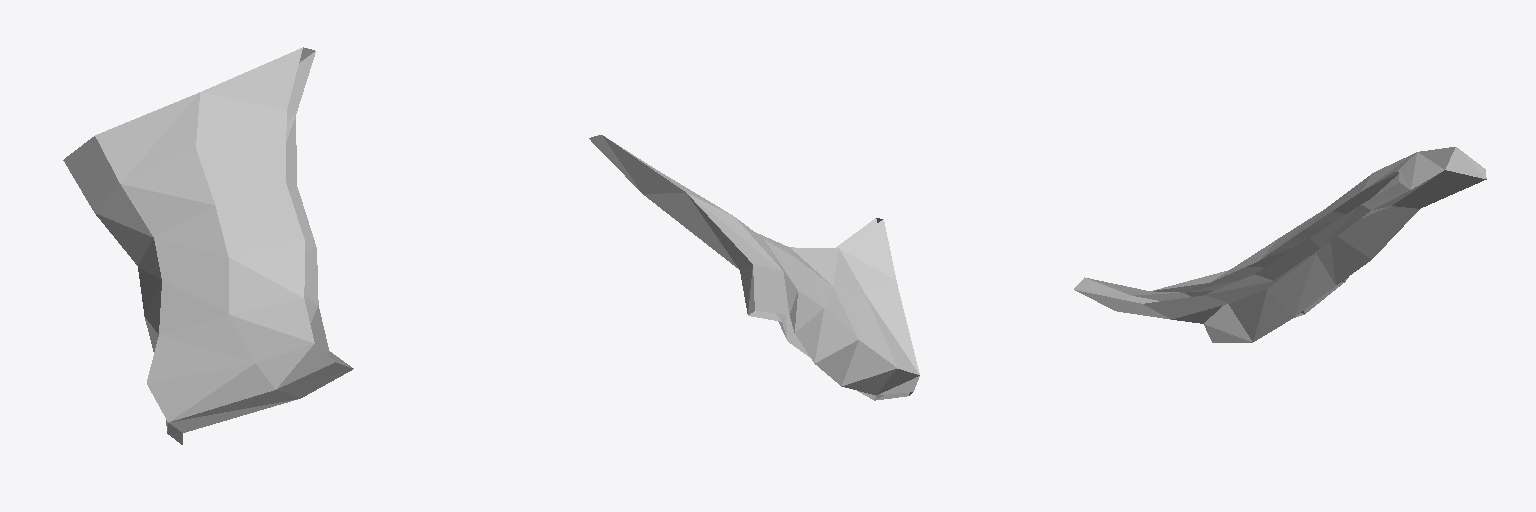
File: Hyoglossus_Muscle_Left.obj
3 renders of one model, left to right at view 1: azimuth 30°, elevation 25°; view 2: azimuth 150°, elevation 25°; view 3: azimuth 270°, elevation 25°, orthographic.
Visible parts, largest first — view 1: Hyoglossus_Muscle_Left1_Mesh group1; view 2: Hyoglossus_Muscle_Left1_Mesh group1; view 3: Hyoglossus_Muscle_Left1_Mesh group1.
Part boxes in pixels (x1,y1,x2,y2): Hyoglossus_Muscle_Left1_Mesh group1: (63, 47, 353, 444); Hyoglossus_Muscle_Left1_Mesh group1: (589, 135, 919, 400); Hyoglossus_Muscle_Left1_Mesh group1: (1074, 147, 1486, 342).
Size of the model in its own units: 0.2942 by 0.3256 by 0.4386.